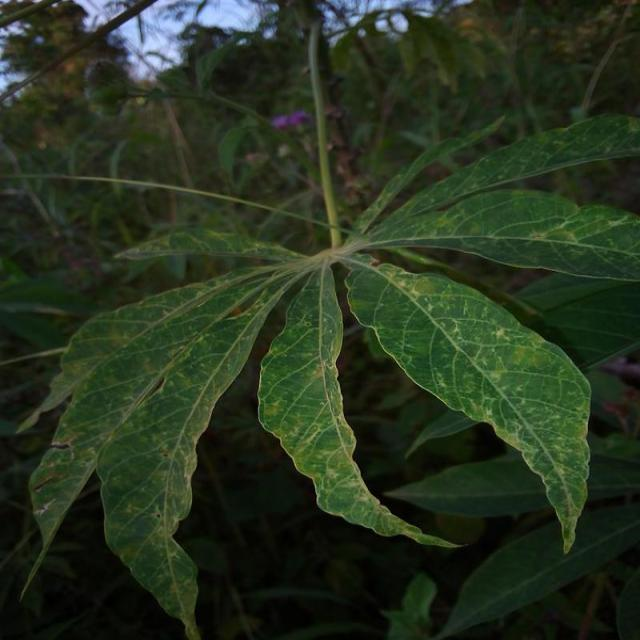cassava leaf: (19, 107, 639, 636), (344, 258, 594, 555), (258, 260, 468, 550)
